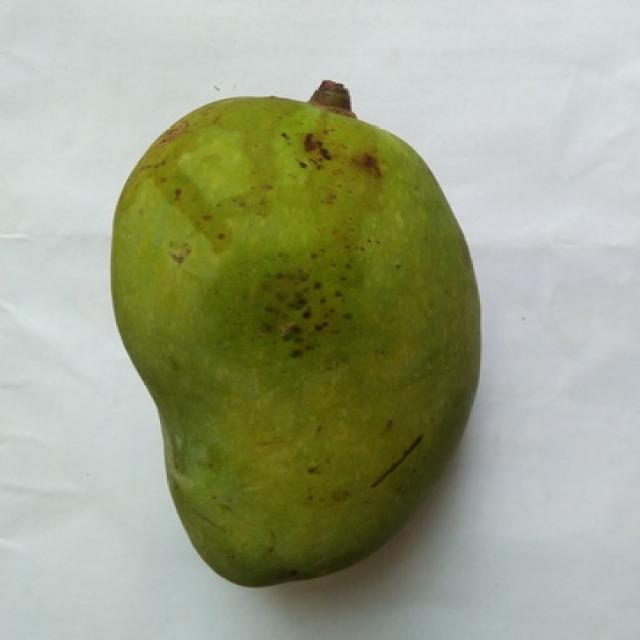Mango: (113, 98, 478, 585)
